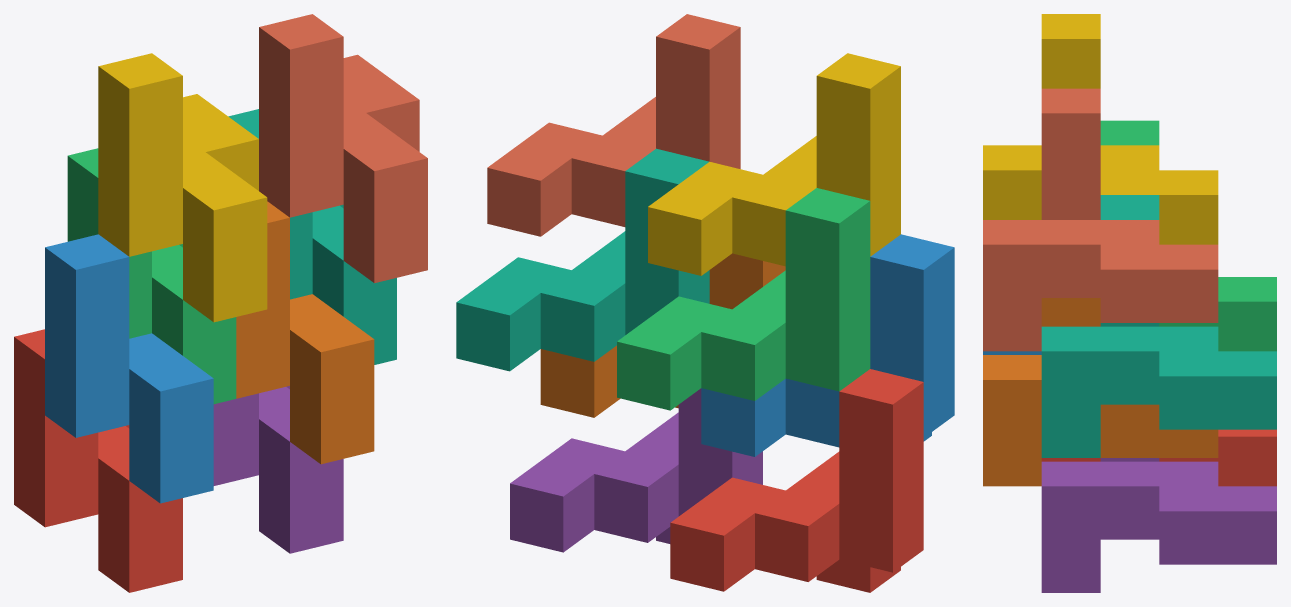
File: tiling.obj
The picture shows the model from 3 angles, left to right: view 1: azimuth 30°, elevation 25°; view 2: azimuth 150°, elevation 25°; view 3: azimuth 270°, elevation 25°; orthographic projection. The views are drawn at different scales.
Visible parts, largest first — view 1: copy_1_domain_4, copy_1_domain_8, copy_1_domain_2, copy_1_domain_1, copy_1_domain_6, copy_1_domain_5, copy_1_domain_3, copy_1_domain_7; view 2: copy_1_domain_1, copy_1_domain_3, copy_1_domain_4, copy_1_domain_8, copy_1_domain_7, copy_1_domain_2, copy_1_domain_5, copy_1_domain_6; view 3: copy_1_domain_8, copy_1_domain_7, copy_1_domain_5, copy_1_domain_4, copy_1_domain_6, copy_1_domain_3, copy_1_domain_1.
Part boxes in pixels (left/top/right/bottom): copy_1_domain_4: left=98, top=53, right=267, bottom=322; copy_1_domain_8: left=259, top=14, right=427, bottom=283; copy_1_domain_2: left=45, top=234, right=213, bottom=503; copy_1_domain_1: left=14, top=329, right=182, bottom=592; copy_1_domain_6: left=236, top=201, right=374, bottom=464; copy_1_domain_5: left=213, top=386, right=343, bottom=553; copy_1_domain_3: left=67, top=148, right=236, bottom=404; copy_1_domain_7: left=228, top=109, right=396, bottom=364; copy_1_domain_1: left=670, top=369, right=923, bottom=592; copy_1_domain_3: left=617, top=188, right=870, bottom=410; copy_1_domain_4: left=648, top=53, right=900, bottom=275; copy_1_domain_8: left=487, top=14, right=740, bottom=236; copy_1_domain_7: left=456, top=148, right=709, bottom=371; copy_1_domain_2: left=701, top=234, right=954, bottom=456; copy_1_domain_5: left=510, top=388, right=762, bottom=552; copy_1_domain_6: left=540, top=253, right=785, bottom=417; copy_1_domain_8: left=983, top=88, right=1218, bottom=351; copy_1_domain_7: left=1041, top=195, right=1276, bottom=457; copy_1_domain_5: left=1041, top=458, right=1276, bottom=592; copy_1_domain_4: left=983, top=14, right=1218, bottom=244; copy_1_domain_6: left=983, top=298, right=1218, bottom=486; copy_1_domain_3: left=1100, top=120, right=1276, bottom=351; copy_1_domain_1: left=1041, top=429, right=1276, bottom=486.
Size of the model in its own units: 7 by 9 by 5.
